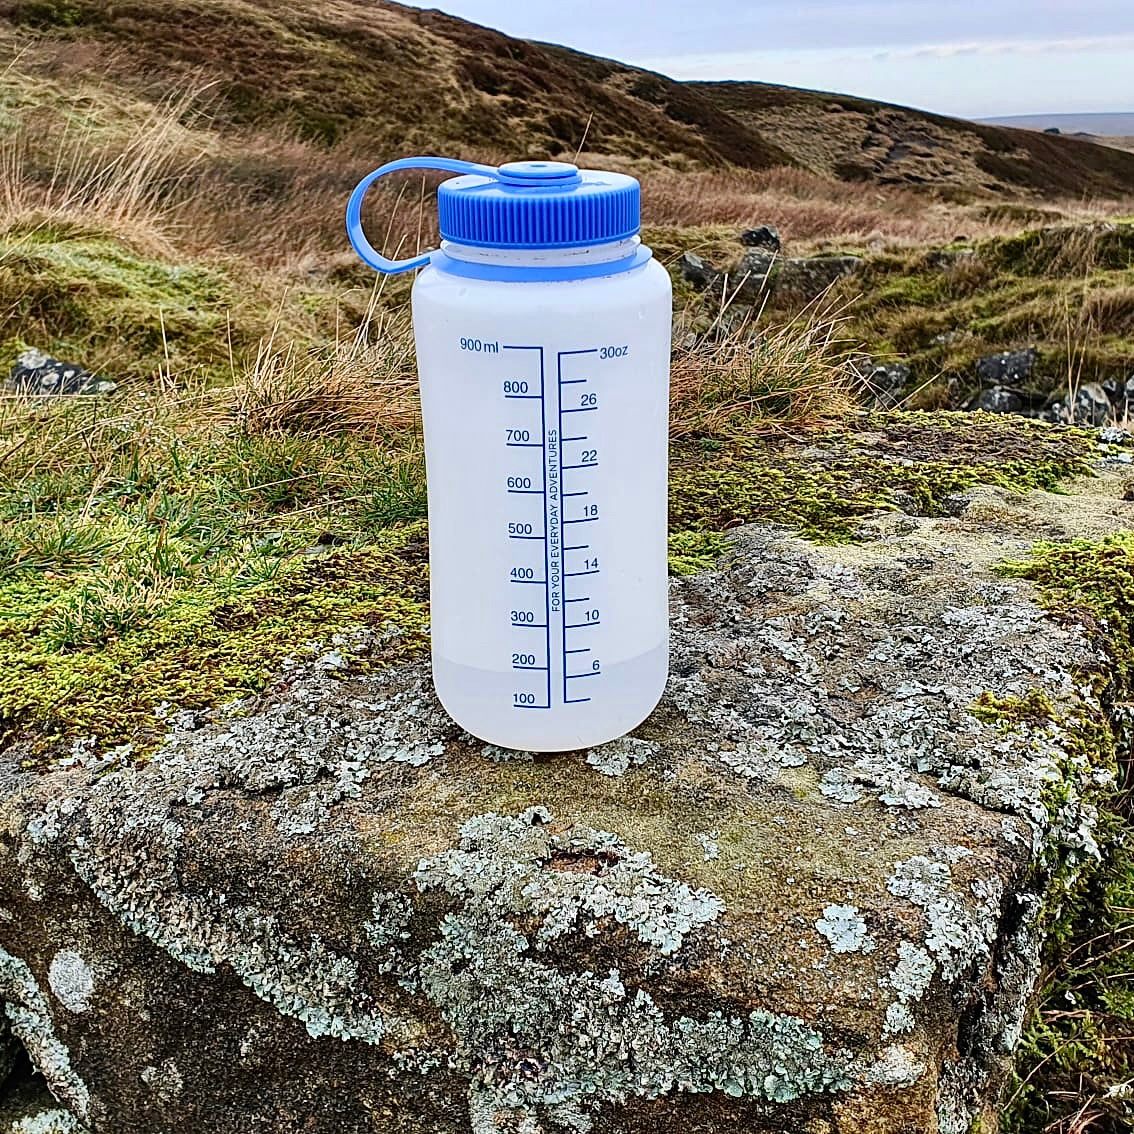waterbottle: (342, 155, 672, 755)
